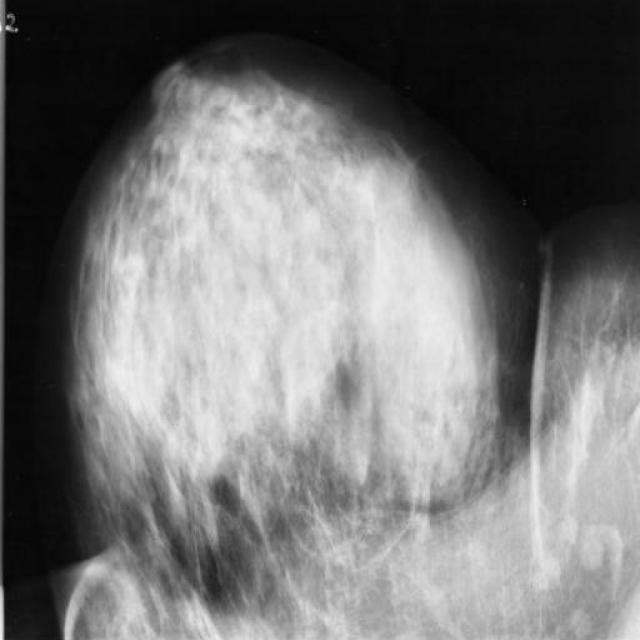cancer: (335, 304, 389, 380)
